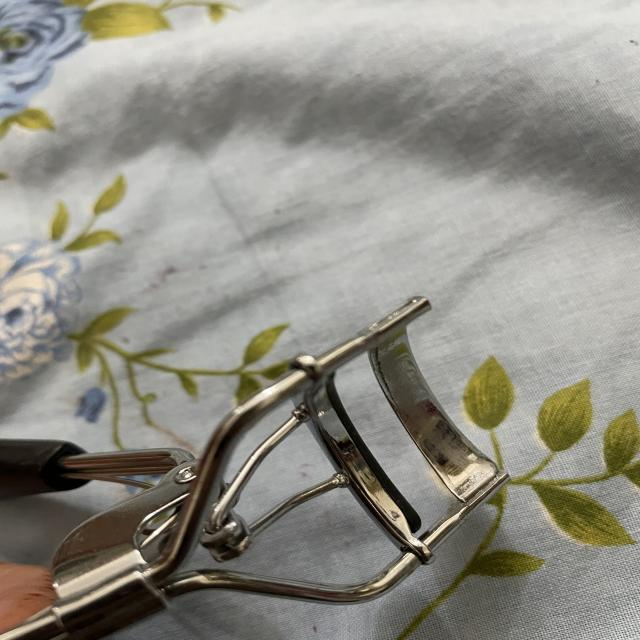eyelash curler: (0, 276, 534, 640)
